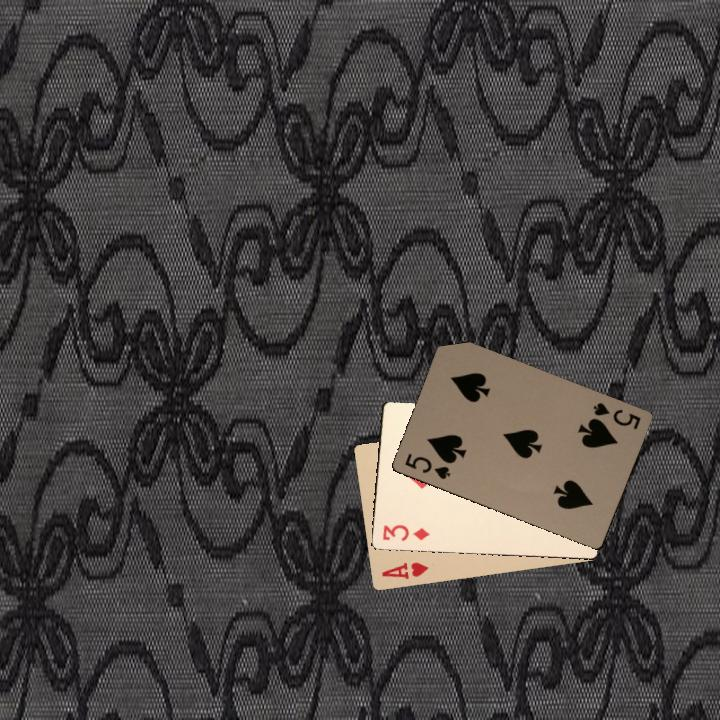3d: (379, 520, 432, 544)
5s: (589, 398, 643, 432), (401, 449, 453, 482)
Ah: (377, 558, 431, 582)
